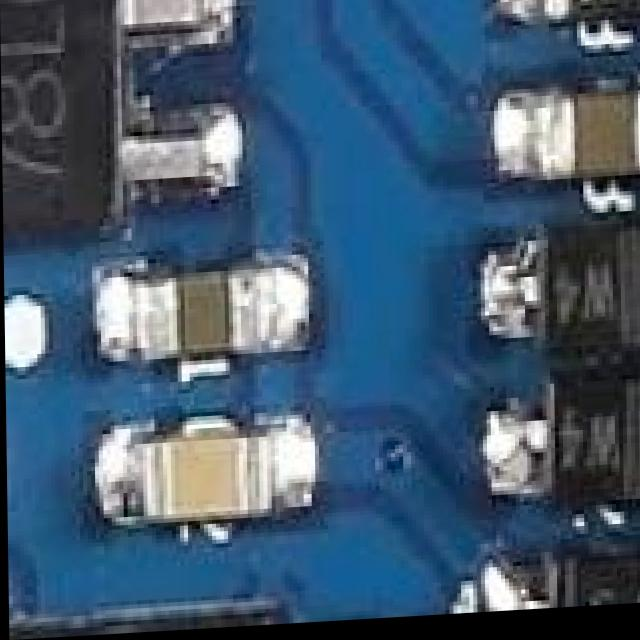IC: (0, 0, 207, 224), (7, 606, 383, 640)
capacitor: (125, 437, 290, 538), (139, 260, 268, 354), (533, 94, 640, 179)
diode: (511, 234, 640, 368), (533, 370, 640, 507), (543, 534, 640, 615)
resistor: (536, 0, 640, 51)
